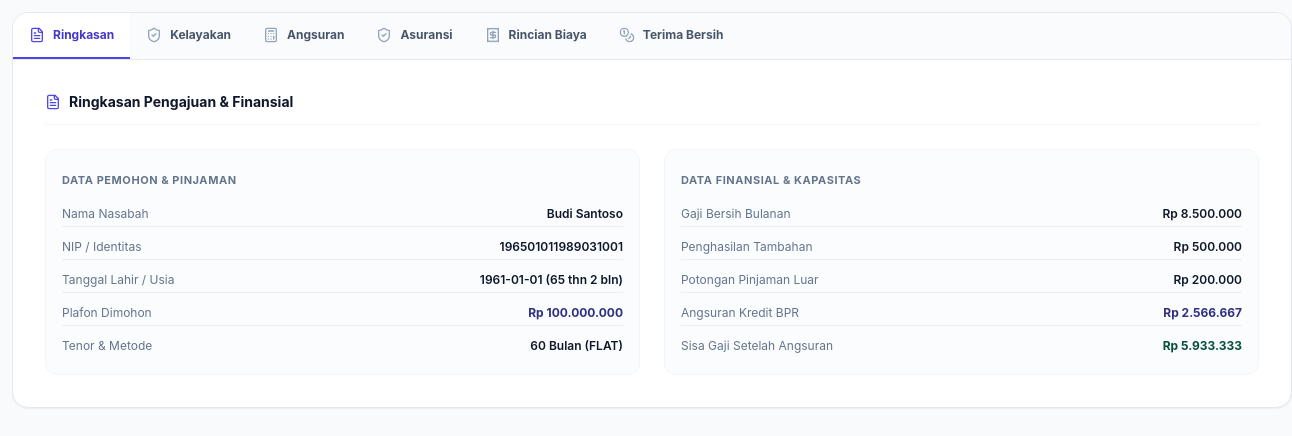
Scenario: TASK-049: Result Detail Sections & Tab Breakdown Tests › should switch to Asuransi tab and display insurance breakdown
Step 1. Click the button with test id "tab-asuransi" → (415, 36), box x1=360 y1=13 x2=469 y2=59
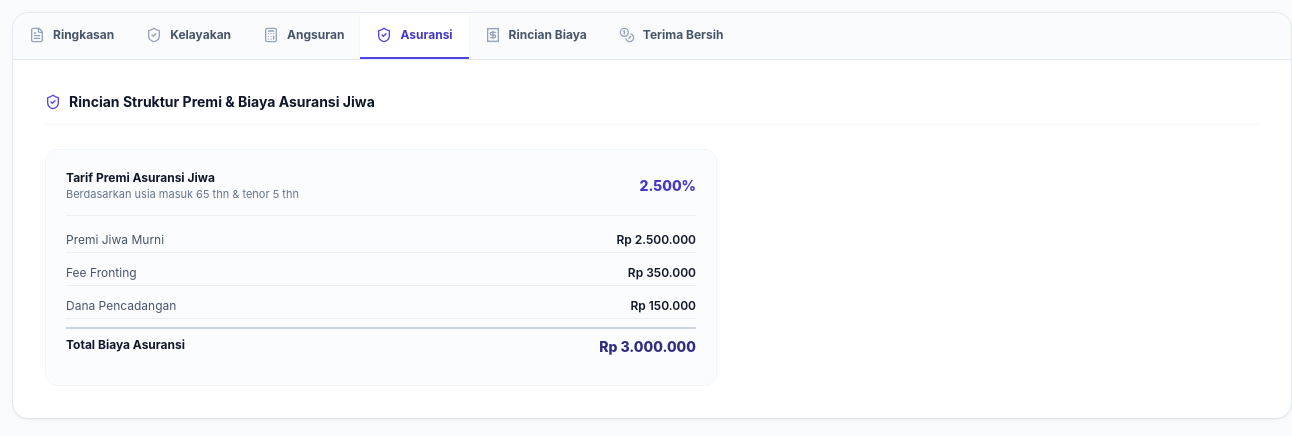
Expected: the element with test id "tab-content-asuransi" is shown
Expected: the text "Premi Jiwa Murni" is shown, x1=66 y1=232 x2=164 y2=248
Expected: the text "Fee Fronting" is shown, x1=66 y1=264 x2=137 y2=280
